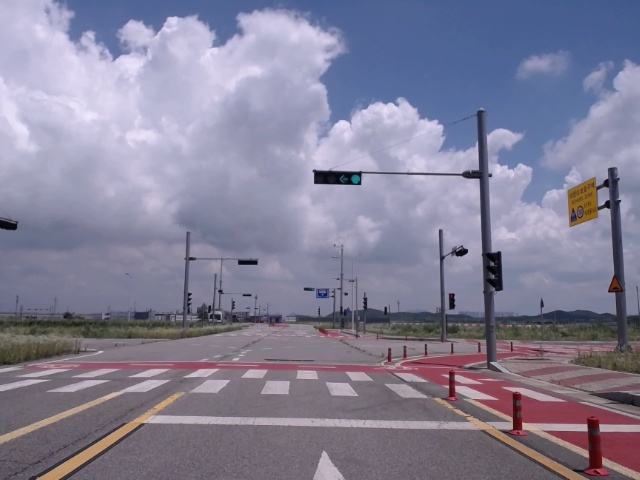all_green_4: (315, 170, 361, 183)
